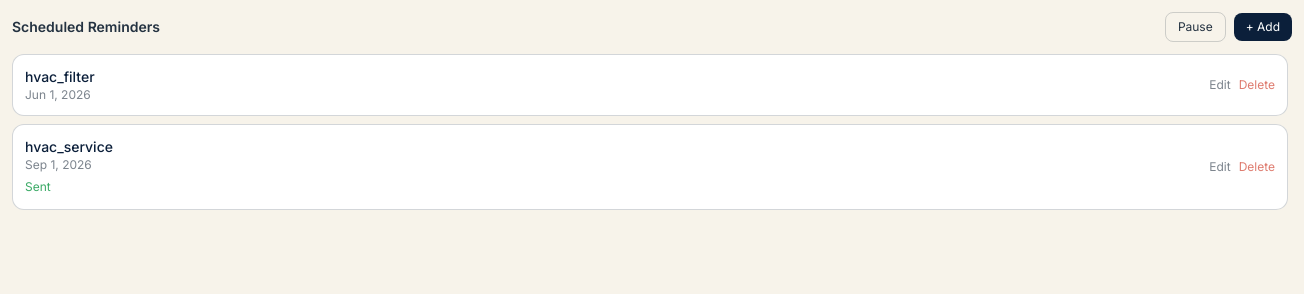
Test case: RemindersPanel › Cancel hides the edit form without saving
Click the button "Edit" in the row of "hvac_filter" at (1220, 85), box left=1209, top=77, right=1231, bottom=93
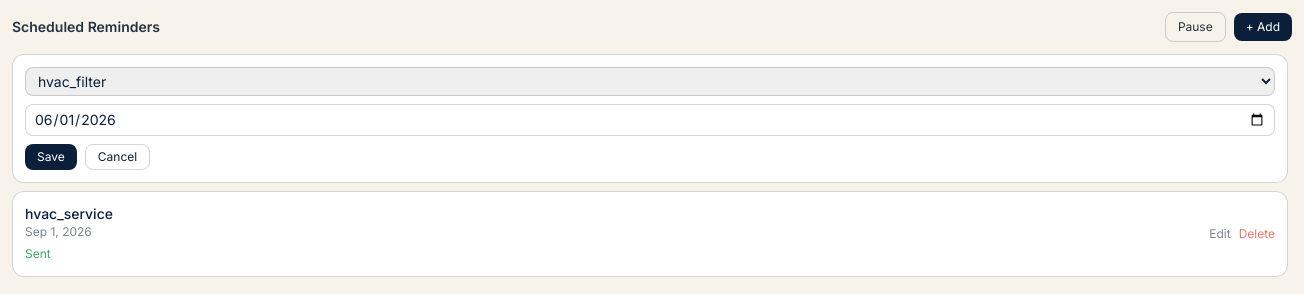
Click the button "Cancel" at (118, 157), box left=85, top=144, right=150, bottom=170
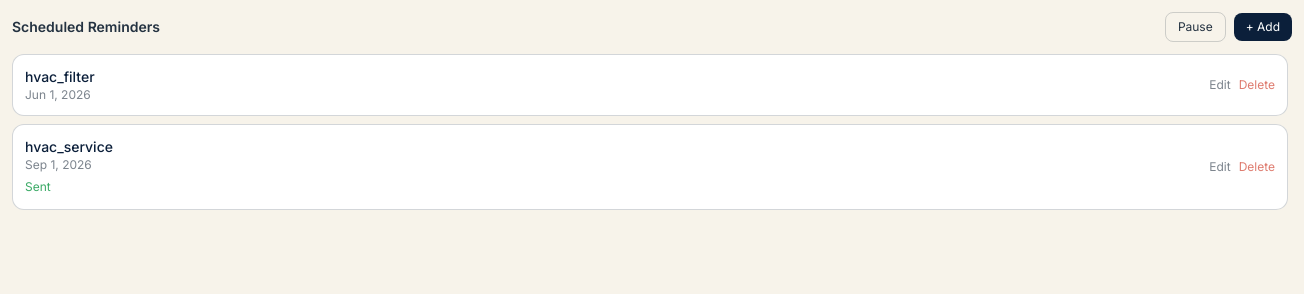
expect the button "Save" is gone: met
